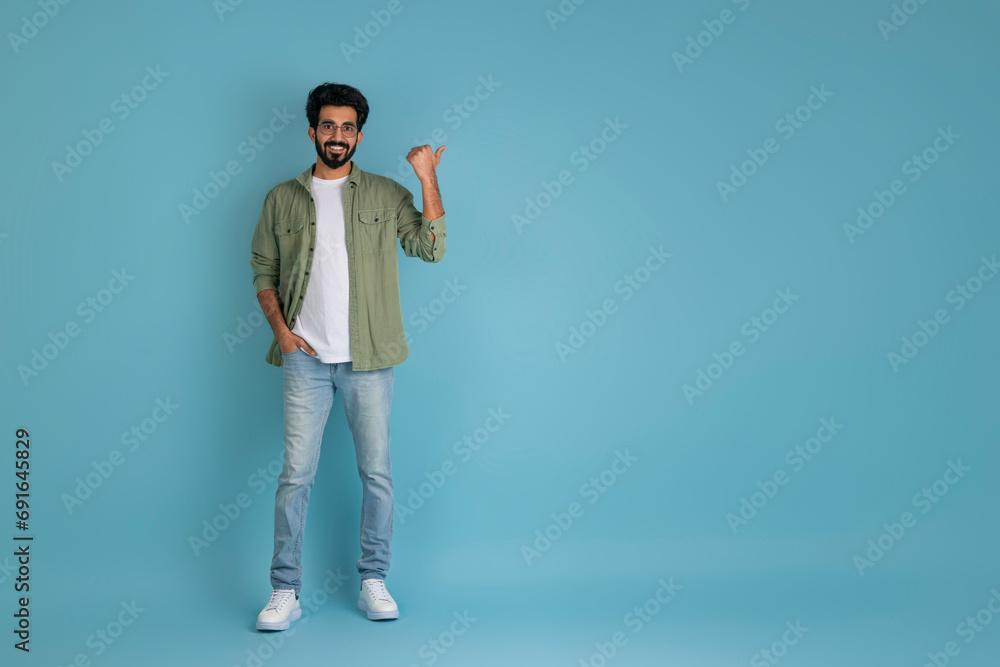Human: (233, 73, 463, 621)
